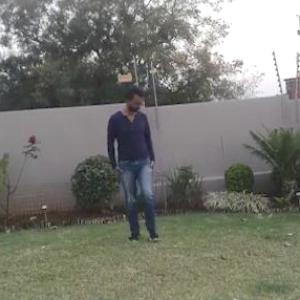follow: (108, 81, 161, 246)
